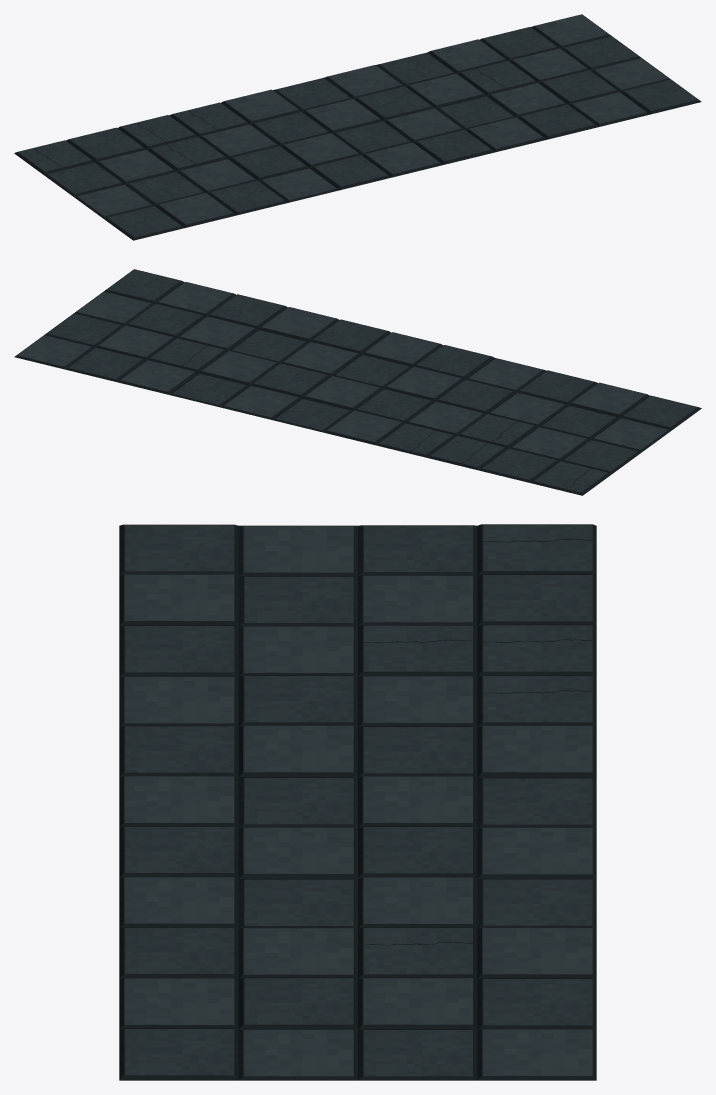
File: T1_FloorStrip_W11_A.fbx
The picture shows the model from 3 angles, top to bottom: view 1: azimuth 30°, elevation 25°; view 2: azimuth 150°, elevation 25°; view 3: azimuth 270°, elevation 25°; orthographic projection. The views are drawn at different scales.
Visible parts, largest first — view 1: T1_FloorStrip_W11_A; view 2: T1_FloorStrip_W11_A; view 3: T1_FloorStrip_W11_A.
Part boxes in pixels (x1,y1,x2,y2): T1_FloorStrip_W11_A: [14, 14, 701, 240]; T1_FloorStrip_W11_A: [14, 269, 701, 495]; T1_FloorStrip_W11_A: [119, 524, 596, 1080].
Bounding box in the file's own units: 12.38 × 0.0418 × 4.5.
